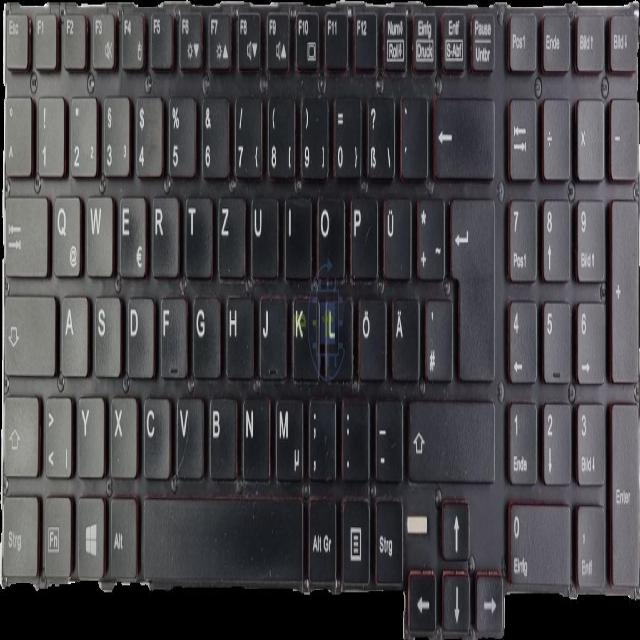0: (332, 90, 361, 179)
1: (35, 90, 64, 176)
2: (68, 92, 97, 176)
3: (101, 90, 130, 175)
4: (134, 91, 162, 177)
5: (168, 92, 196, 176)
6: (201, 92, 229, 178)
7: (233, 90, 262, 179)
8: (266, 90, 294, 182)
9: (299, 92, 327, 179)
a: (59, 290, 87, 374)
accent: (399, 90, 427, 178)
ae: (390, 292, 419, 379)
alt-left: (108, 491, 136, 578)
altgr-right: (307, 492, 336, 582)
b: (208, 392, 236, 478)
c: (142, 391, 170, 477)
caret: (2, 90, 31, 176)
comma: (307, 392, 335, 481)
d: (126, 291, 154, 377)
del: (432, 89, 494, 177)
e: (117, 190, 146, 275)
enter: (449, 191, 494, 380)
f: (159, 291, 187, 377)
g: (192, 290, 220, 376)
h: (224, 292, 253, 377)
hash: (424, 292, 452, 379)
i: (283, 193, 311, 278)
j: (258, 291, 285, 377)
k: (290, 292, 317, 379)
keyboard: (2, 0, 636, 633)
l: (319, 289, 351, 377)
less: (43, 390, 71, 477)
m: (274, 392, 303, 482)
minus: (373, 393, 402, 481)
n: (242, 392, 270, 480)
o: (314, 190, 343, 275)
oe: (357, 292, 386, 379)
p: (349, 190, 377, 277)
plus: (415, 191, 444, 278)
point: (340, 393, 369, 481)
q: (52, 190, 80, 276)
r: (150, 191, 179, 277)
s: (92, 291, 120, 376)
shift-left: (1, 390, 38, 476)
shift-lock: (2, 288, 55, 374)
shift-right: (406, 392, 494, 480)
space: (142, 490, 302, 585)
ss: (366, 92, 394, 180)
strg-left: (0, 486, 37, 579)
strg-right: (374, 493, 402, 581)
t: (184, 191, 212, 277)
tab: (2, 189, 47, 275)
u: (249, 190, 277, 277)
ue: (381, 190, 410, 279)
v: (175, 392, 203, 476)
w: (85, 190, 112, 276)
x: (109, 391, 137, 476)
y: (76, 391, 103, 476)
z: (217, 192, 245, 276)
